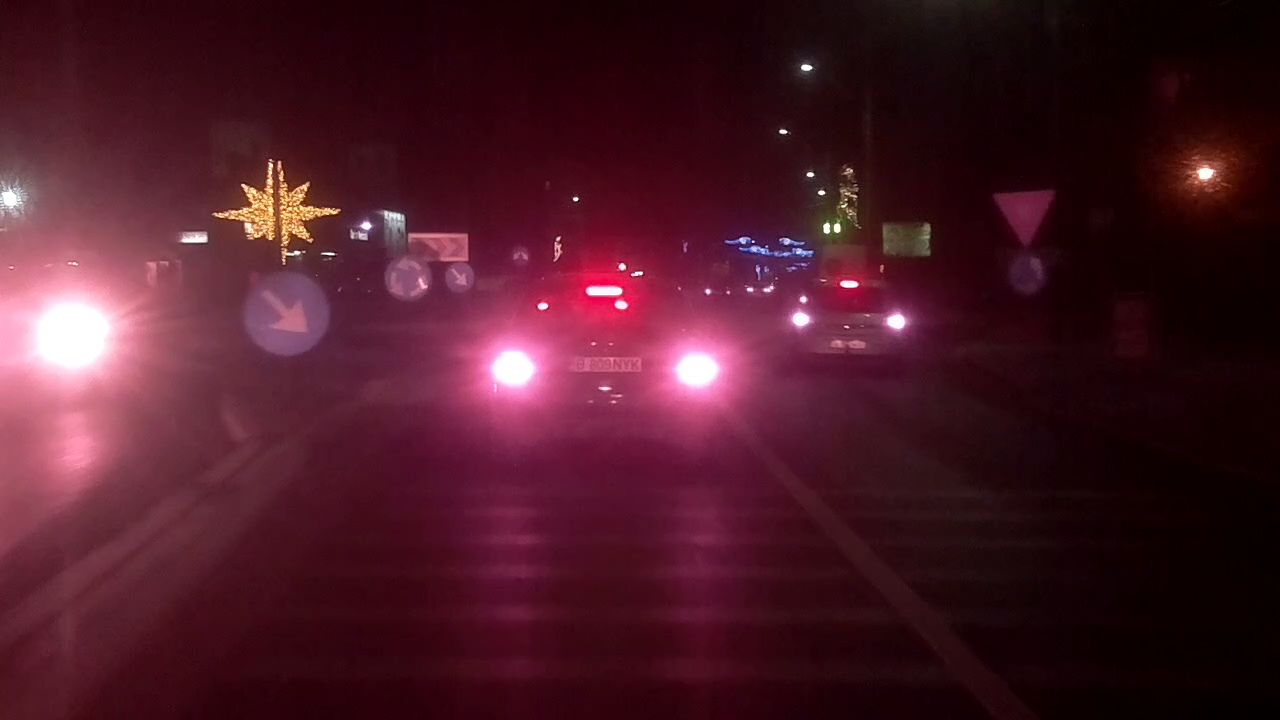license-plate: (562, 352, 647, 377)
